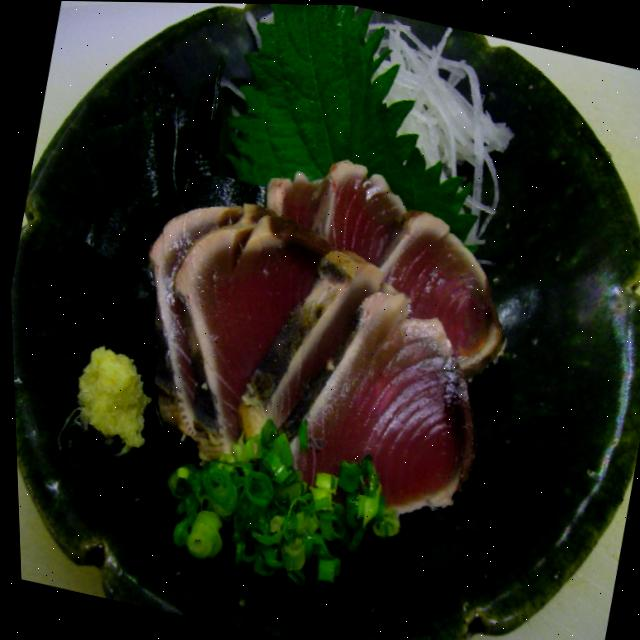熟制海鲜: (103, 112, 564, 526)
